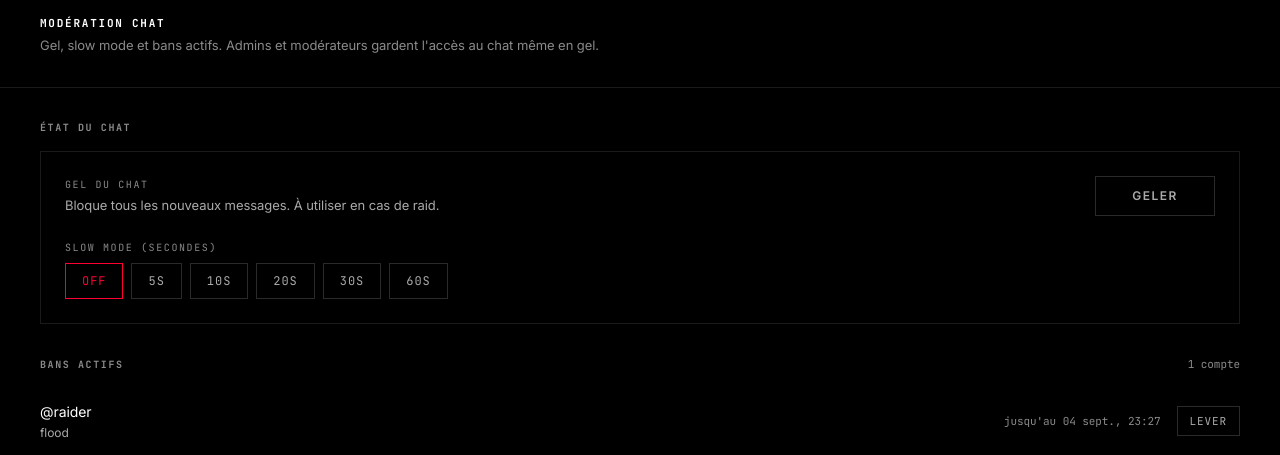
ChatAdminPage · bans actifs › lève un ban via chat_ban_user et retire l'entrée de la liste
expect the link "@raider" is shown: met, box [40,402,92,420]
Click the button "Lever". click: (1208, 421)
box: [1177,406,1240,436]
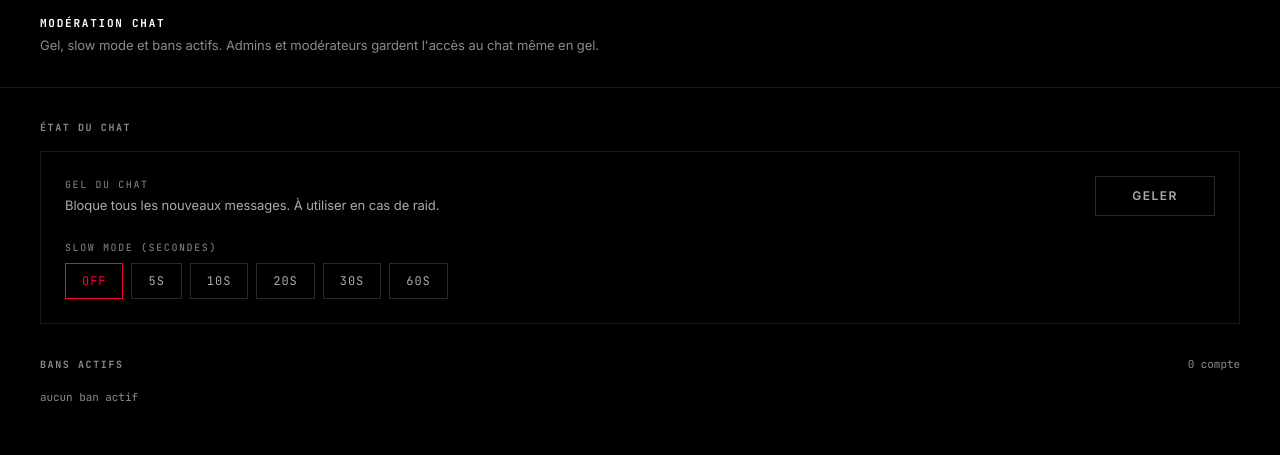
expect the link "@raider" is gone: met
expect the text "aucun ban actif" is shown: met, box [40,390,138,404]
